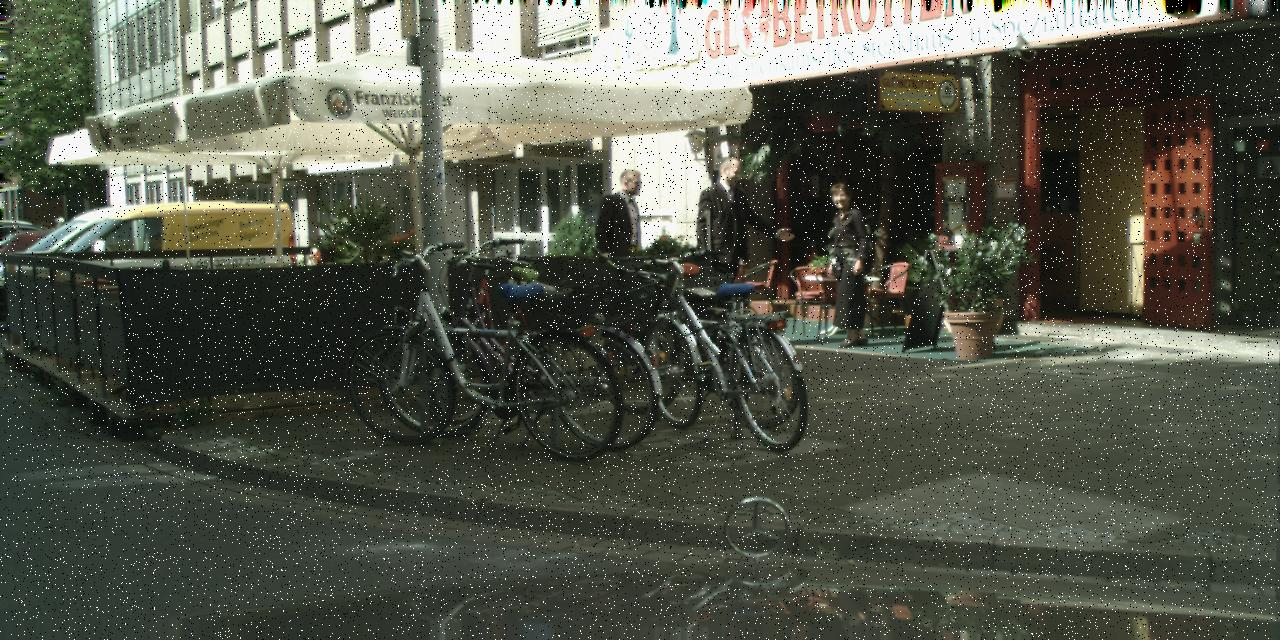ped: (688, 156, 762, 338), (592, 168, 660, 333), (814, 183, 880, 345)
